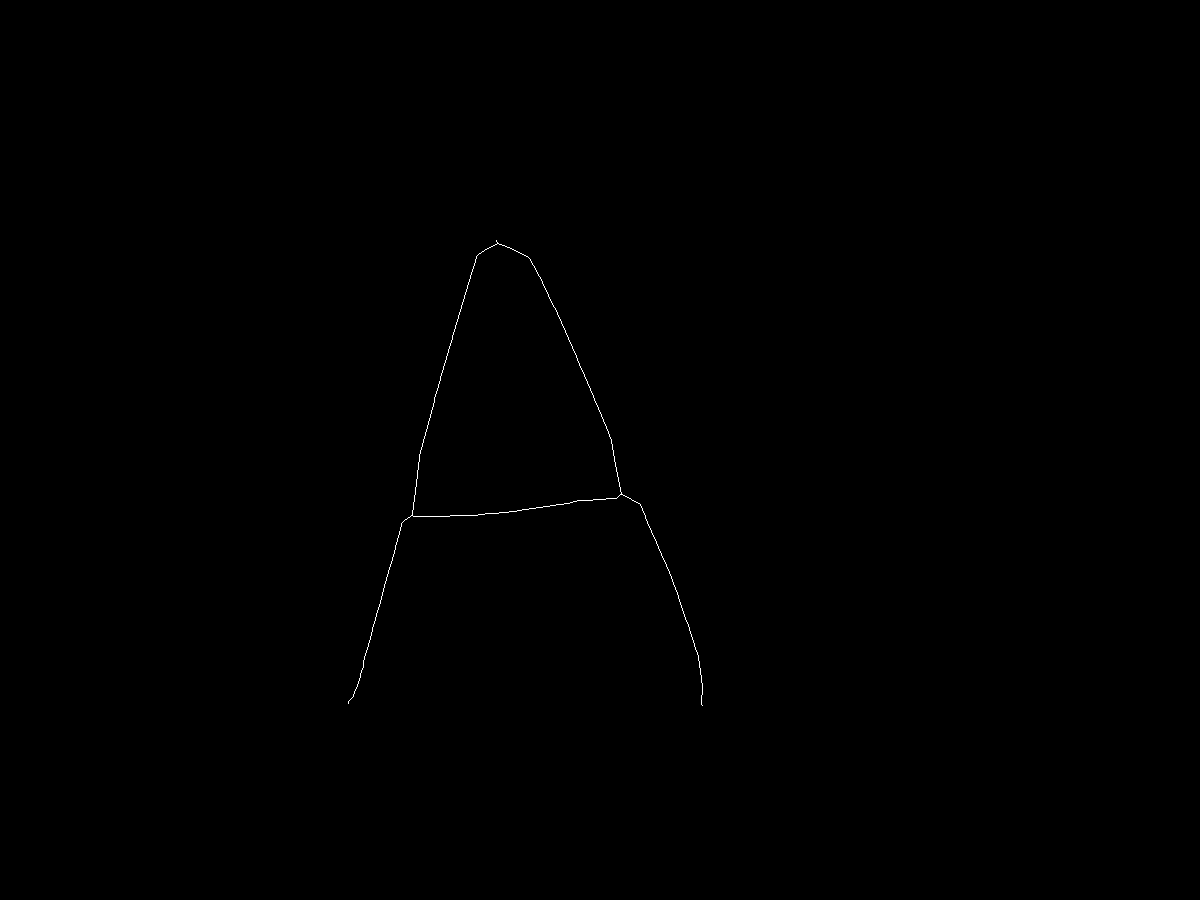dian1: (484, 238, 502, 256)
dian2: (401, 503, 430, 532)
dian3: (345, 697, 359, 711)
dian4: (611, 490, 630, 509)
dian5: (694, 694, 715, 715)
